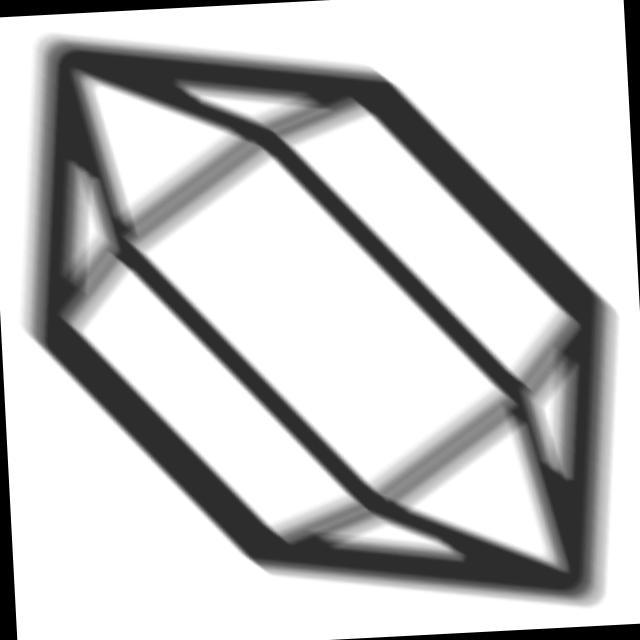crystal: (1, 4, 640, 639)
